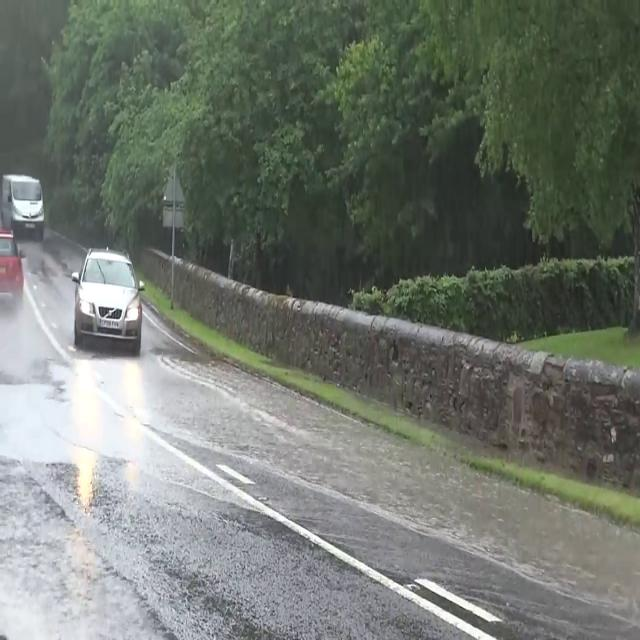license-plate-annotation: (93, 312, 123, 333)
